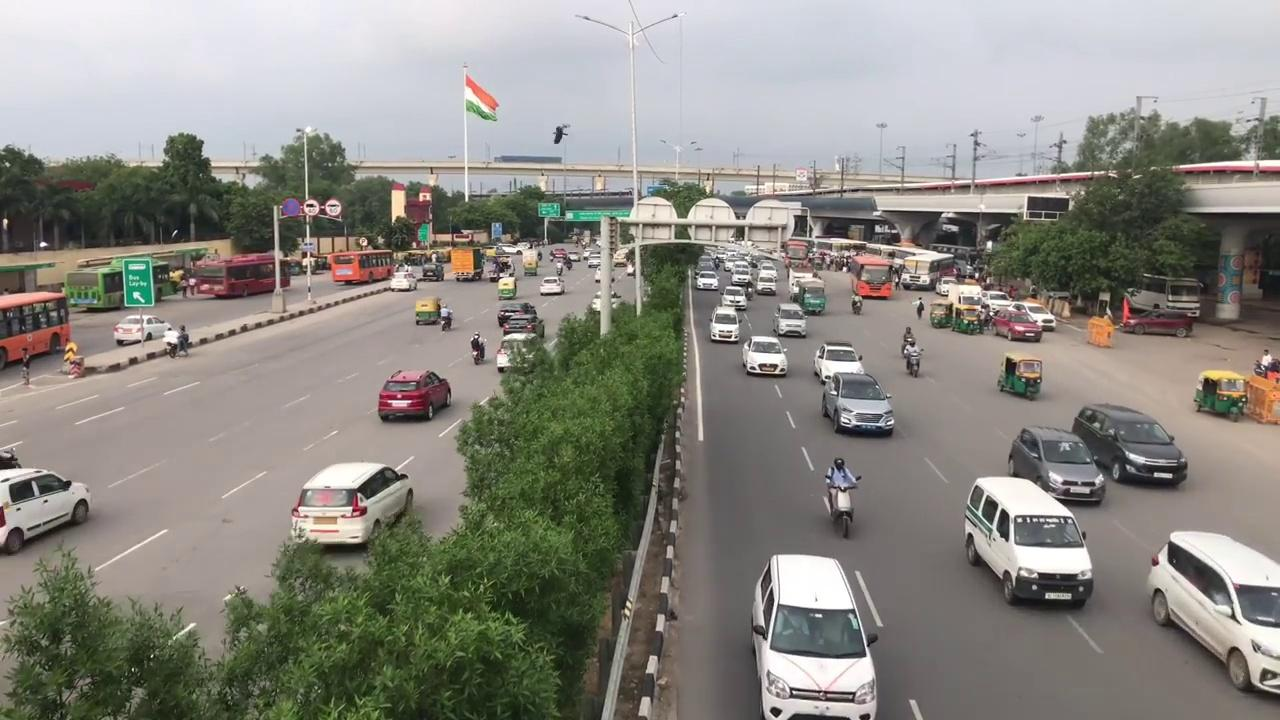Auto: (1195, 368, 1250, 420), (999, 352, 1045, 400), (413, 293, 441, 323)
Bike: (824, 448, 860, 538), (902, 339, 922, 376), (471, 326, 486, 364)
Bus: (0, 286, 75, 366), (329, 249, 395, 283), (851, 254, 894, 298)
Car: (1148, 529, 1280, 696), (751, 552, 882, 720), (289, 460, 415, 550), (1070, 402, 1188, 486), (0, 464, 94, 554), (1008, 424, 1106, 507), (820, 362, 896, 438), (377, 366, 452, 423), (814, 338, 862, 384), (741, 335, 788, 377), (774, 301, 807, 339)
Truck: (449, 247, 484, 284)
